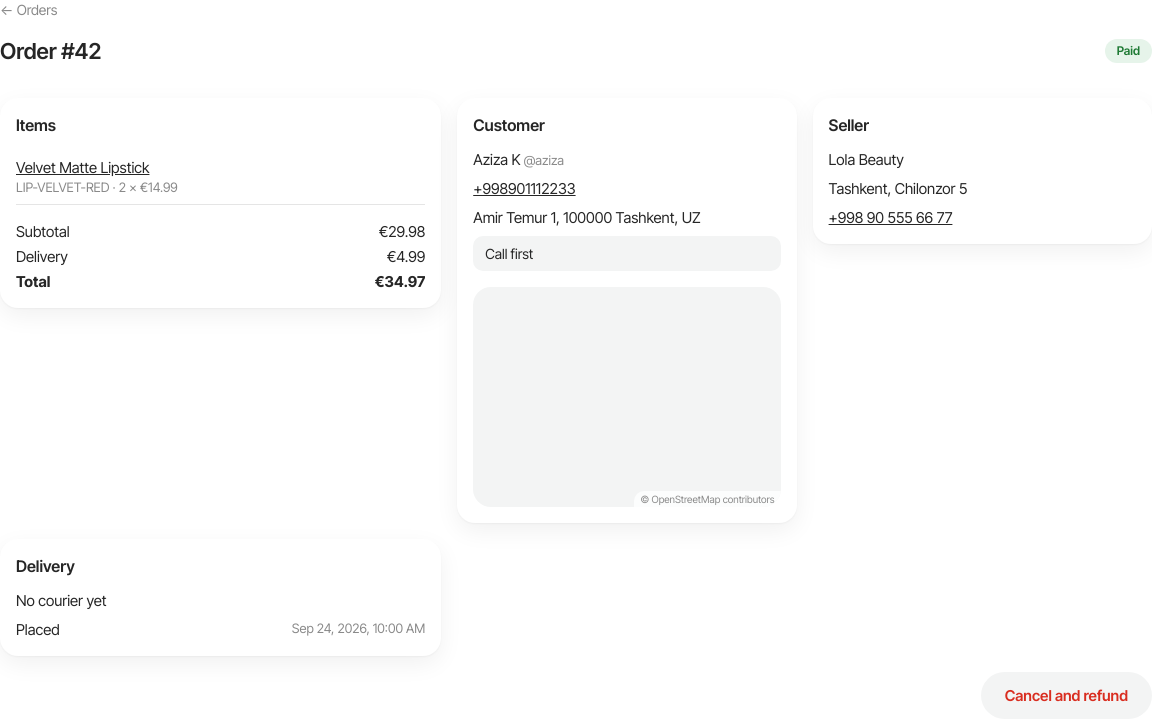
Test case: OrderDetailScreen › explains that the courier got there first
Step 1. Click the button "Cancel and refund" → (1066, 695), box [981,672,1151,719]
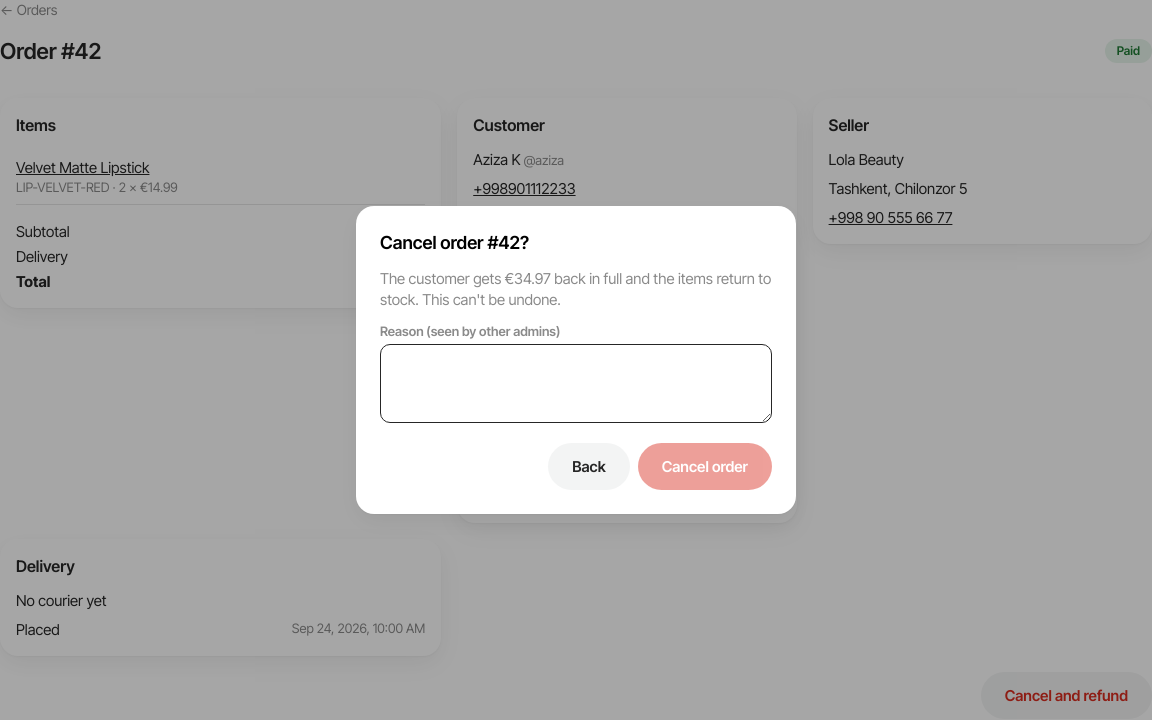
Step 2. Type "x" into the text box labelled "Reason (seen by other admins)" → (576, 383), box [380,344,772,423]
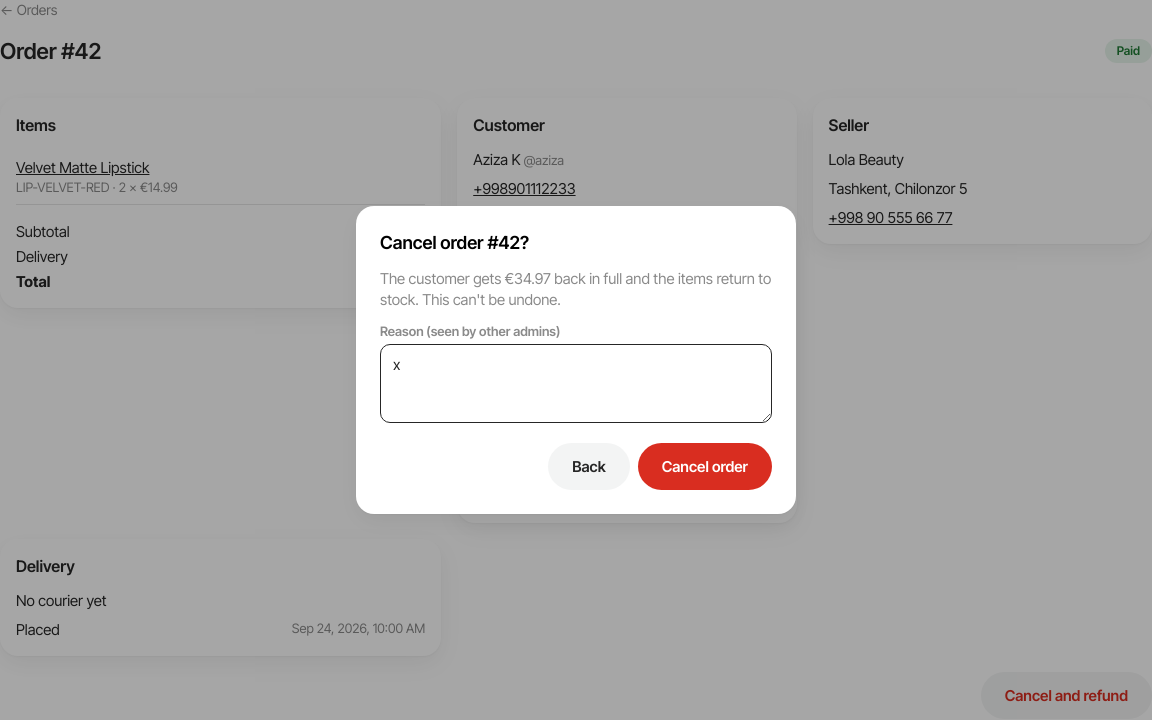
Step 3. Click the button "Cancel order" → (705, 466), box [638,443,772,490]
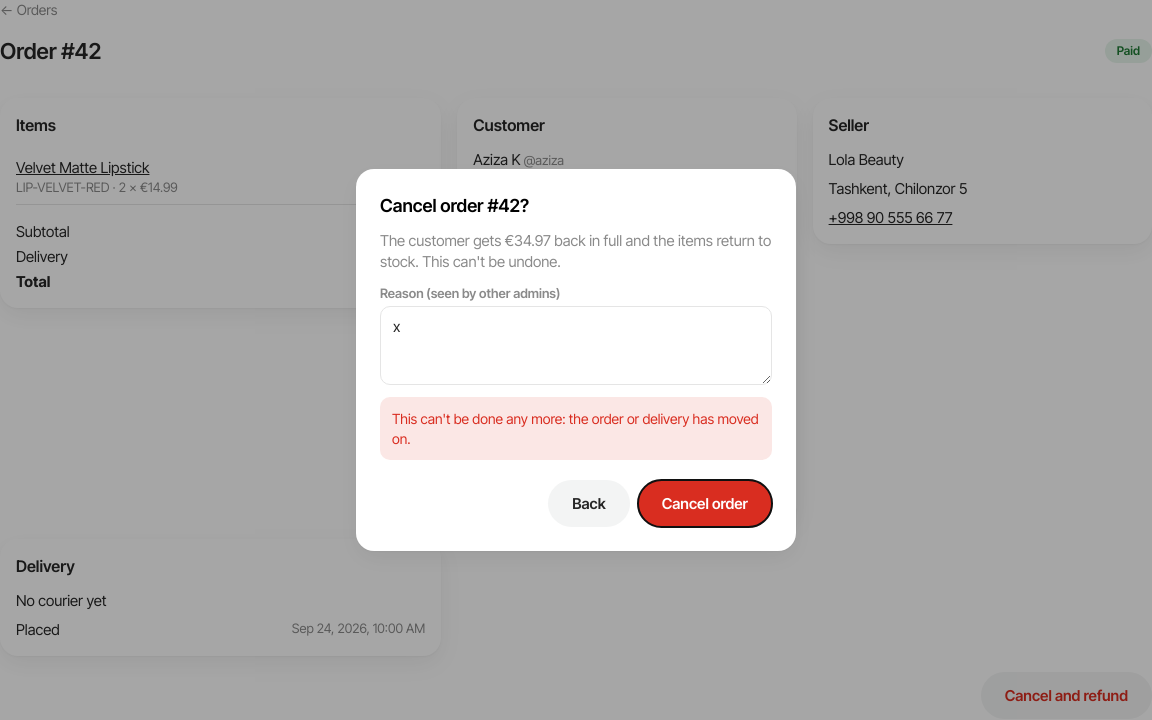
Now the message shows "the order or delivery has moved on", box [392,410,759,447]
